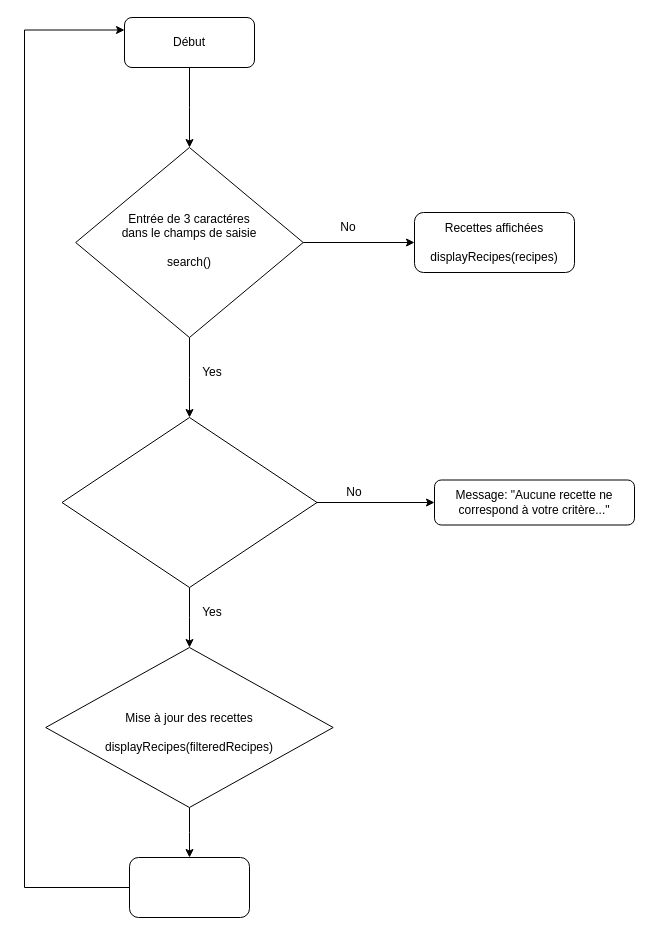
Image size: 652x935. Some labels were removed from this diagram. Here are the shapes that lost their labels. From the top down, the centre of each, then its label:
At point (189, 502): "Recherche dans les tableaux filterRecipesSearch(searchString)".
At point (189, 887): "Fin".
